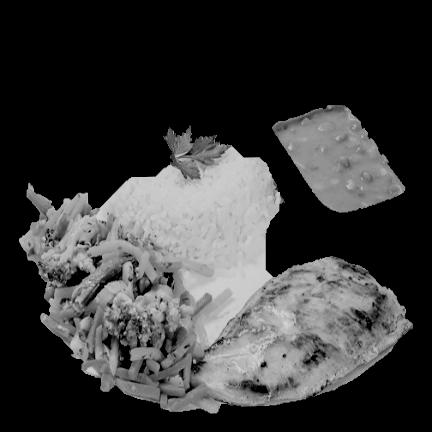beans: (266, 104, 405, 215)
broccoli: (35, 215, 196, 352)
carrot: (31, 194, 234, 412)
chicken: (179, 257, 410, 406)
rice: (98, 145, 283, 273)
